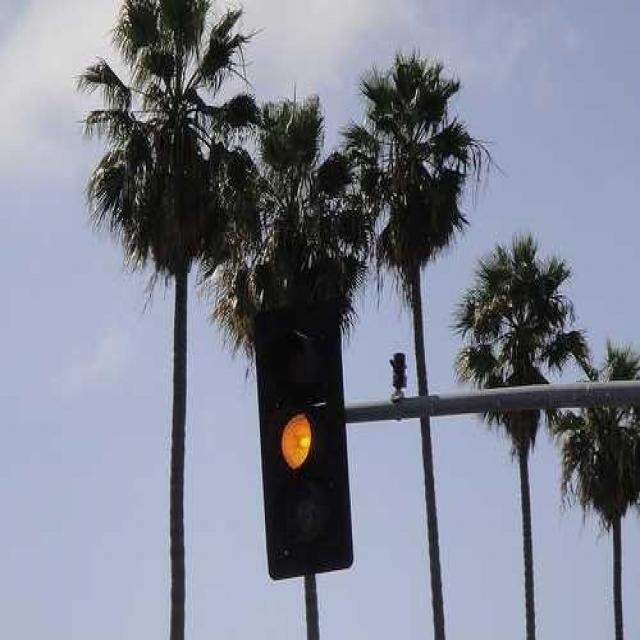yellow_light: (253, 298, 354, 580)
